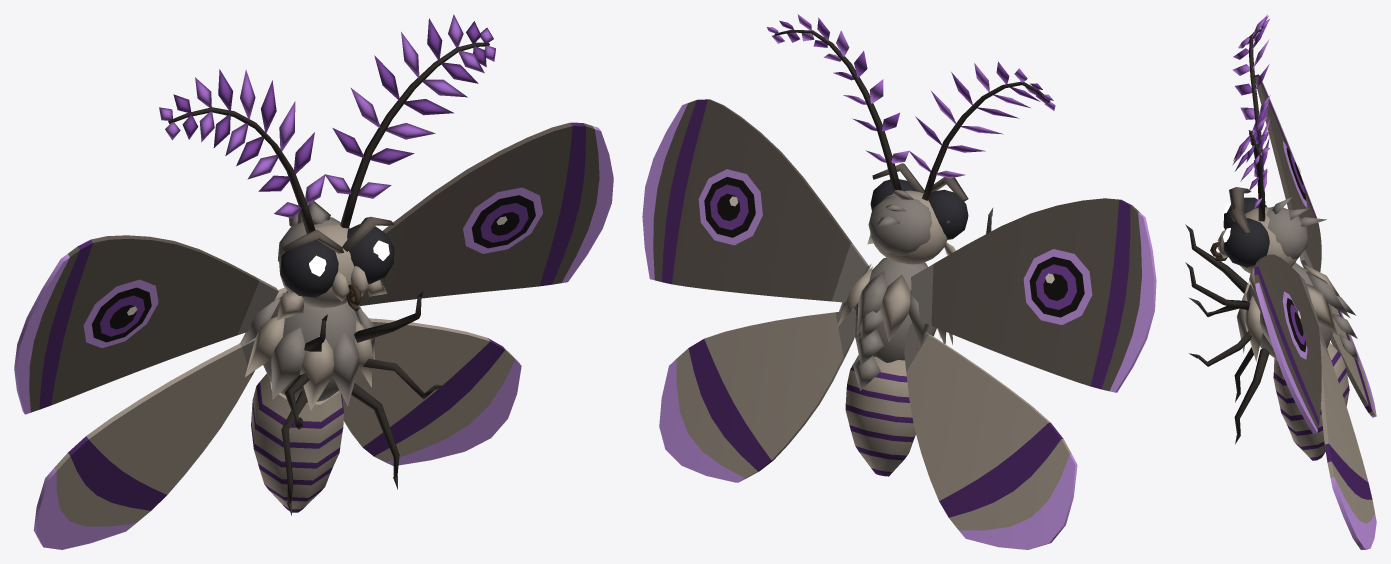
File: moth-emperor.glb
3 views of the same model, side by side, from view 1: azimuth 30°, elevation 25°; view 2: azimuth 150°, elevation 25°; view 3: azimuth 270°, elevation 25° (orthographic). The views are drawn at different scales.
Parts seen in each view (by area): view 1: glide_wing_1, glide_wing_0, body, sway_feeler_l, pulse_abdomen, sway_feeler_r, turn_head, blink_eye_r, blink_eye_l; view 2: glide_wing_1, glide_wing_0, body, pulse_abdomen, turn_head, sway_feeler_l, sway_feeler_r, blink_eye_r; view 3: glide_wing_0, body, glide_wing_1, turn_head, pulse_abdomen, sway_feeler_r, blink_eye_l, sway_feeler_l, blink_eye_r.
Boxes of the visible parts, bbox=[...] form: glide_wing_1: bbox=[14, 235, 278, 549]; glide_wing_0: bbox=[342, 122, 613, 465]; body: bbox=[240, 287, 443, 515]; sway_feeler_l: bbox=[324, 14, 495, 228]; pulse_abdomen: bbox=[251, 373, 343, 512]; sway_feeler_r: bbox=[159, 69, 325, 233]; turn_head: bbox=[276, 201, 394, 320]; blink_eye_r: bbox=[280, 239, 338, 297]; blink_eye_l: bbox=[347, 224, 394, 284]; glide_wing_1: bbox=[904, 198, 1156, 549]; glide_wing_0: bbox=[642, 99, 869, 482]; body: bbox=[837, 207, 993, 390]; pulse_abdomen: bbox=[845, 355, 915, 476]; turn_head: bbox=[867, 163, 968, 264]; sway_feeler_l: bbox=[767, 14, 908, 191]; sway_feeler_r: bbox=[909, 61, 1055, 200]; blink_eye_r: bbox=[928, 189, 968, 239]; glide_wing_0: bbox=[1254, 254, 1376, 549]; body: bbox=[1185, 224, 1358, 444]; glide_wing_1: bbox=[1255, 74, 1376, 417]; turn_head: bbox=[1210, 187, 1326, 293]; pulse_abdomen: bbox=[1273, 342, 1349, 460]; sway_feeler_r: bbox=[1232, 14, 1270, 206]; blink_eye_l: bbox=[1223, 218, 1269, 267]; sway_feeler_l: bbox=[1232, 101, 1270, 221]; blink_eye_r: bbox=[1223, 197, 1266, 229].
Bounding box in the file's own units: 0.9008 × 0.7332 × 0.3113.
